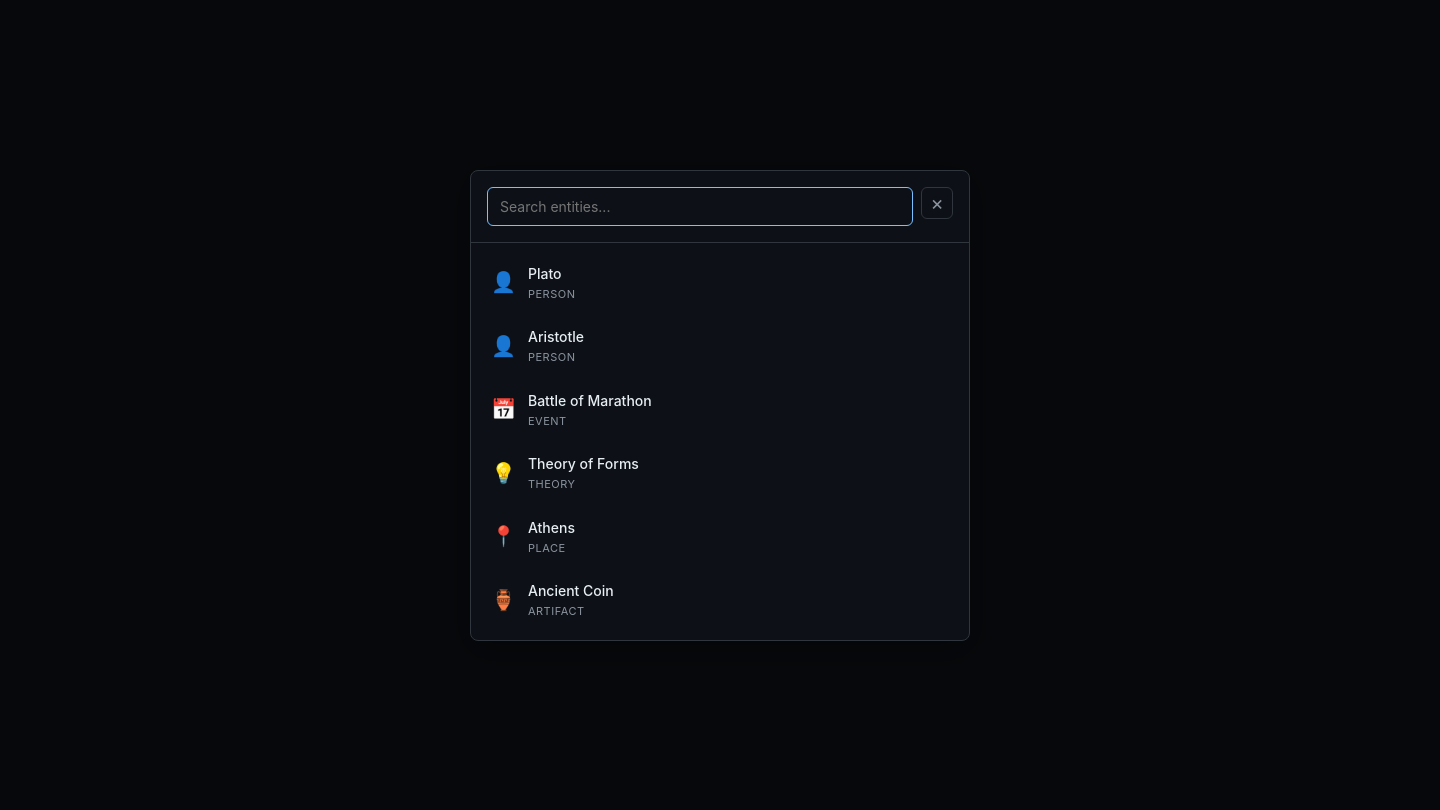
EntityPicker › filters partial matches
Type "tle" into the field with placeholder "Search entities..." at [700, 206], box x1=487 y1=186 x2=913 y2=226
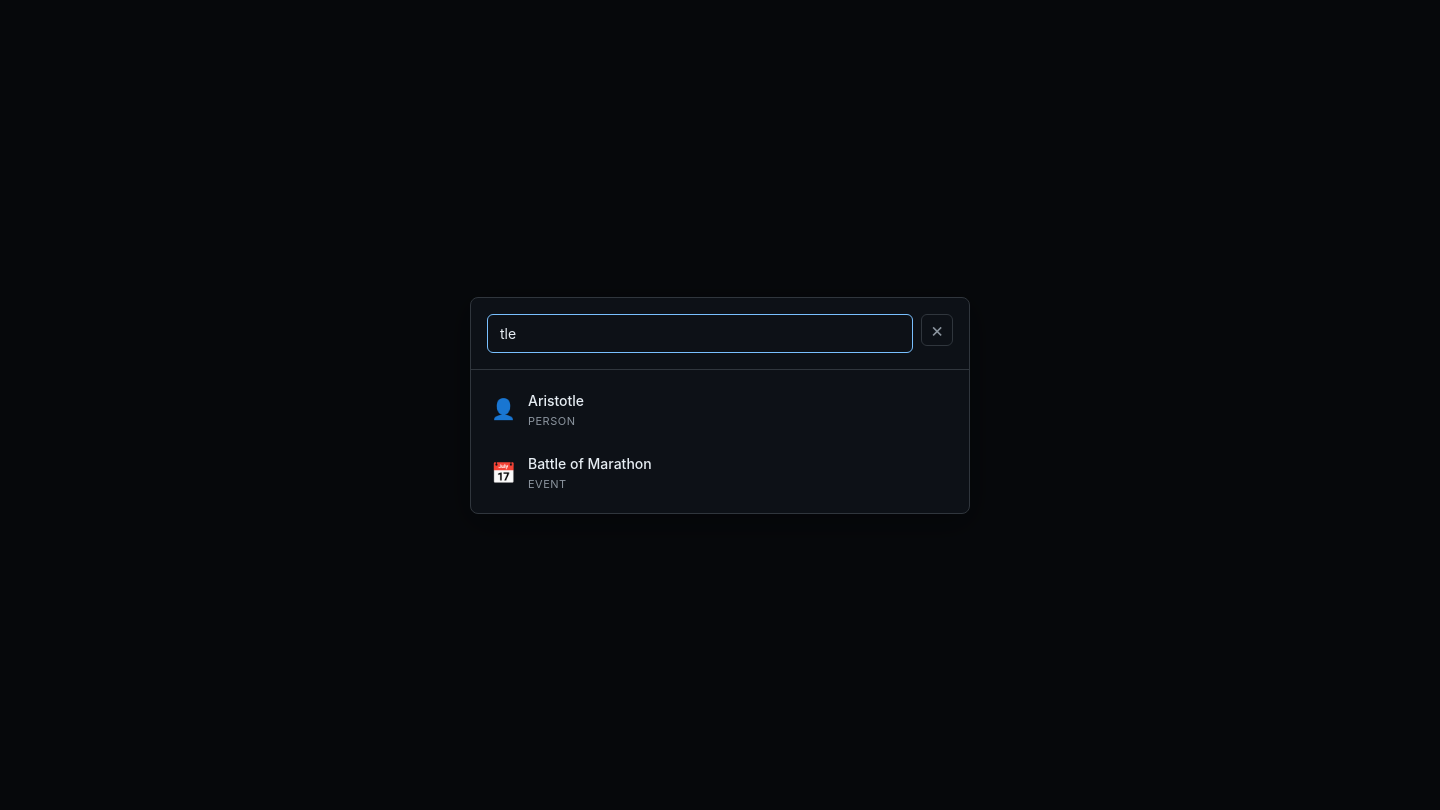
Expected: the text "Aristotle" is shown, x1=528 y1=392 x2=584 y2=408
Expected: the text "Plato" is gone
